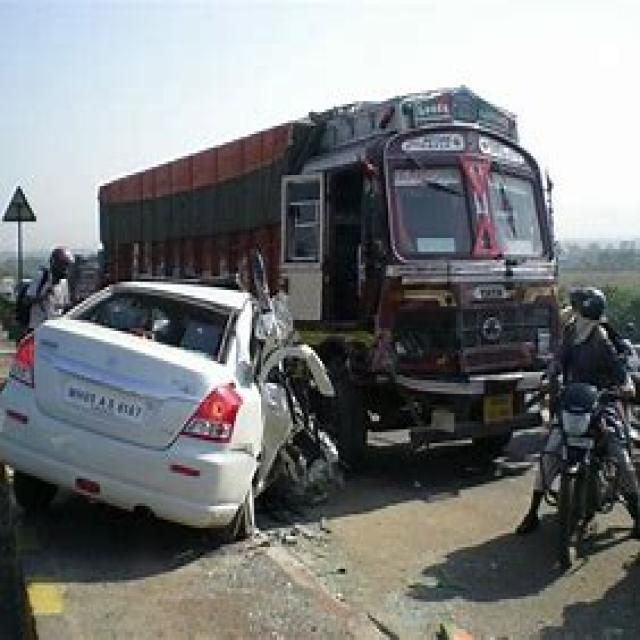Accident: (80, 51, 640, 596)
